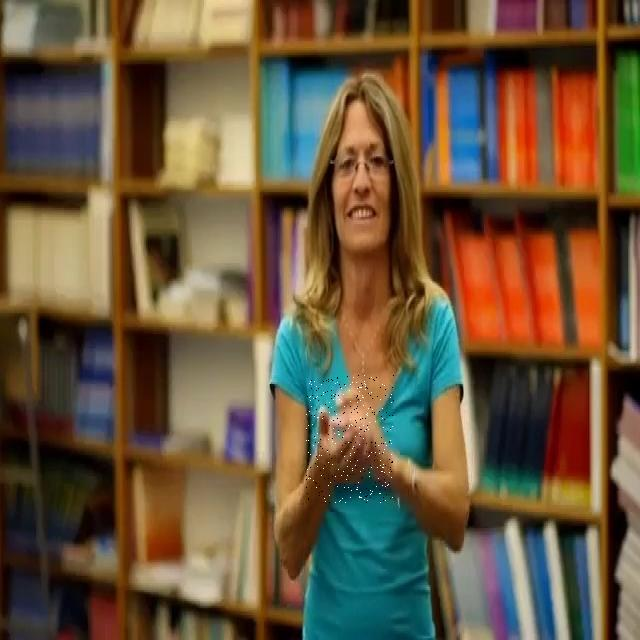burger: (306, 375, 394, 503)
